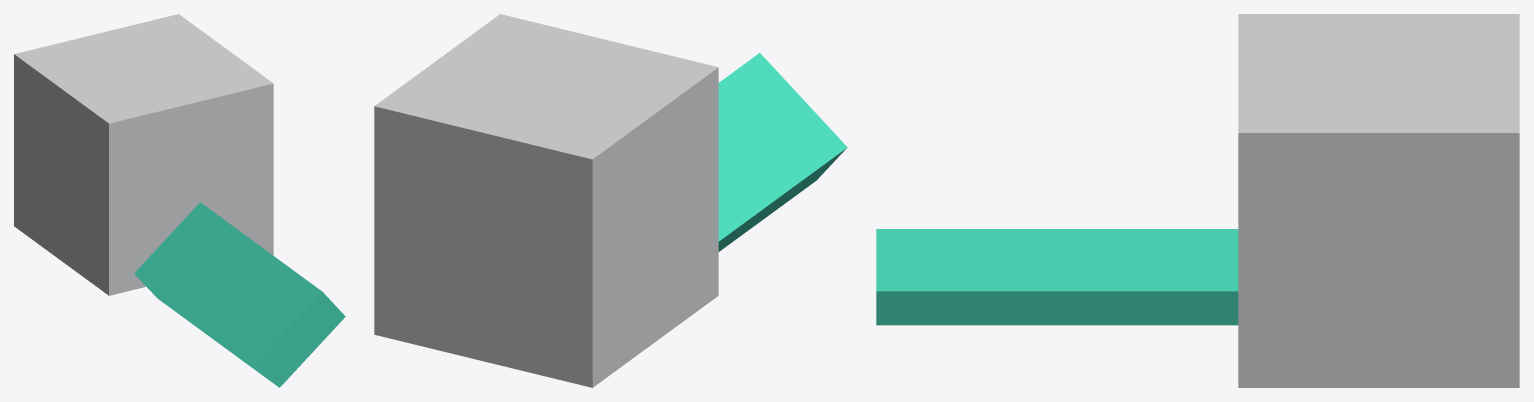
File: plant.glb
The picture shows the model from 3 angles, left to right: view 1: azimuth 30°, elevation 25°; view 2: azimuth 150°, elevation 25°; view 3: azimuth 270°, elevation 25°; orthographic projection. The views are drawn at different scales.
Parts seen in each view (by area): view 1: pot, leaf; view 2: pot, leaf; view 3: pot, leaf.
Part boxes in pixels (x1,y1,x2,y2): pot: (14, 14, 273, 295); leaf: (134, 202, 345, 387); pot: (374, 14, 718, 387); leaf: (718, 53, 847, 251); pot: (1238, 14, 1519, 387); leaf: (876, 229, 1238, 325).
Bounding box in the file's own units: 0.35 × 0.3794 × 0.8.
